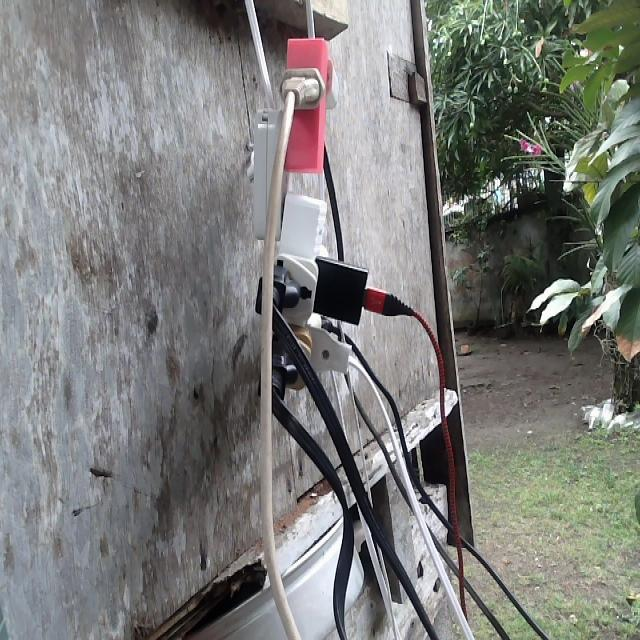-: (250, 36, 413, 400)
